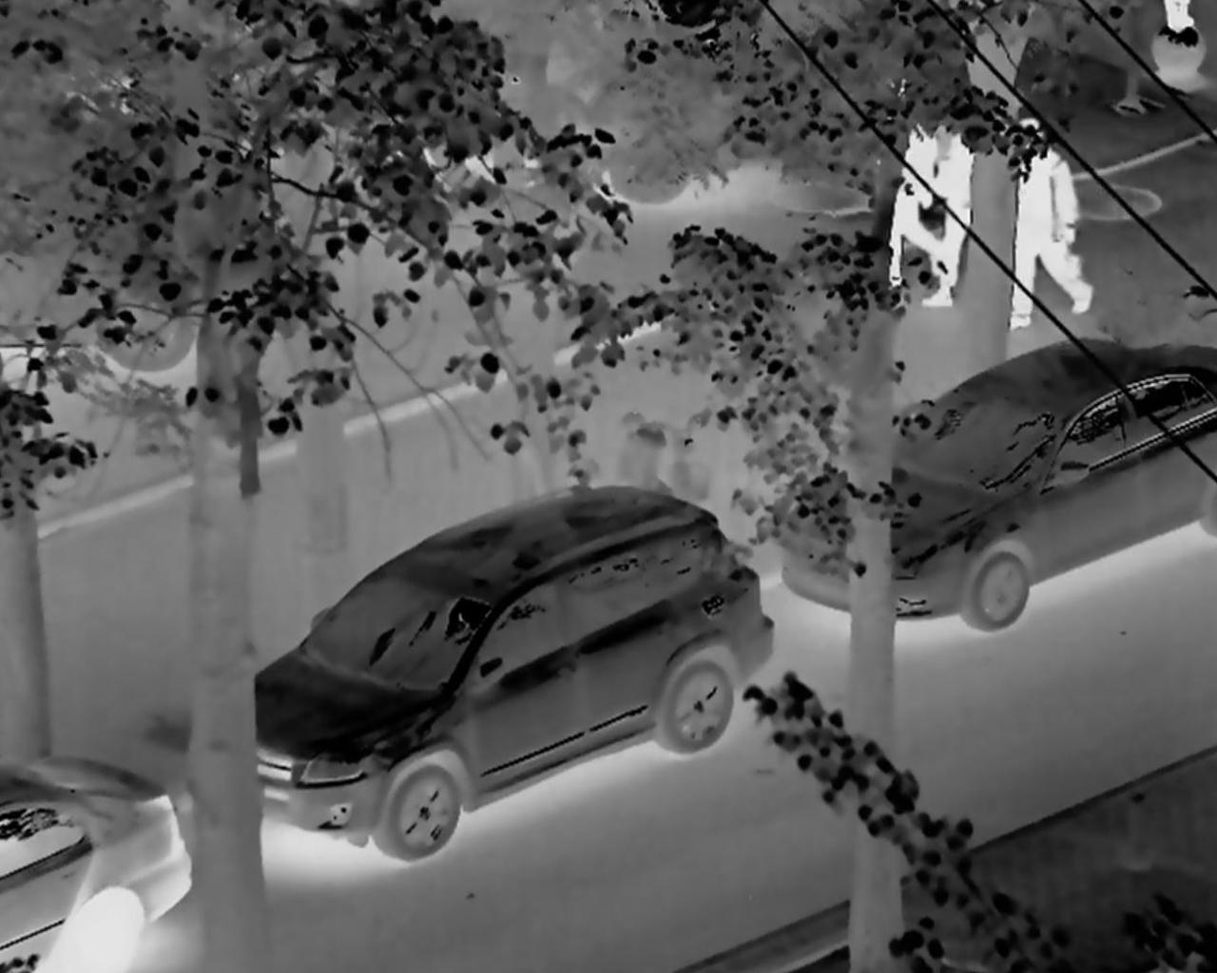person: (1014, 114, 1097, 347), (880, 91, 940, 291), (937, 107, 988, 326)
